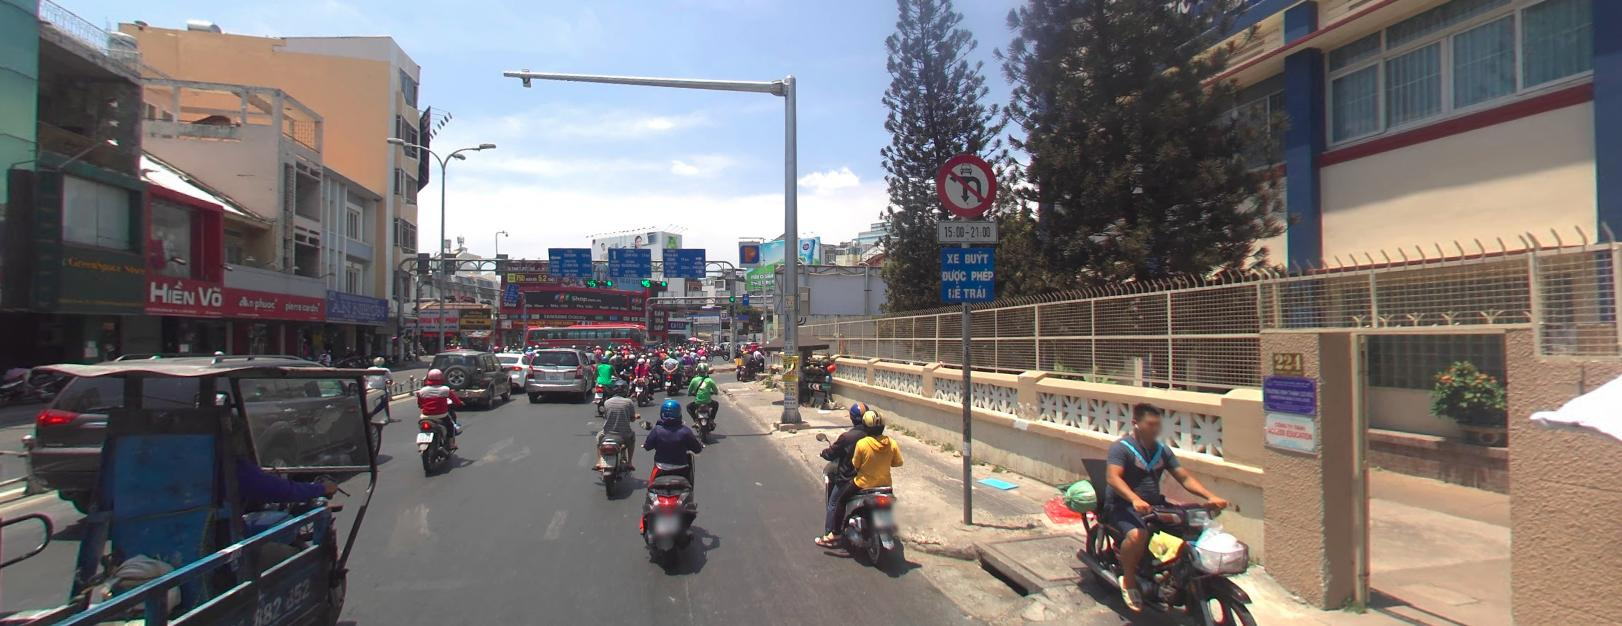Cam re: (935, 151, 999, 216)
